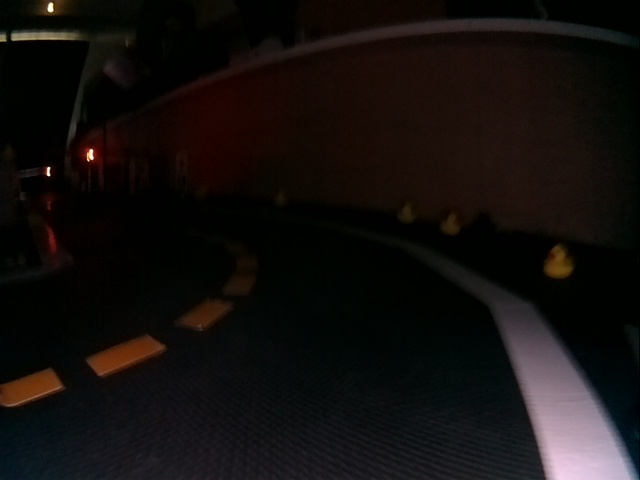Duckie: (543, 246, 574, 279), (441, 213, 459, 235), (398, 207, 417, 221), (195, 186, 208, 197), (274, 192, 287, 202)
